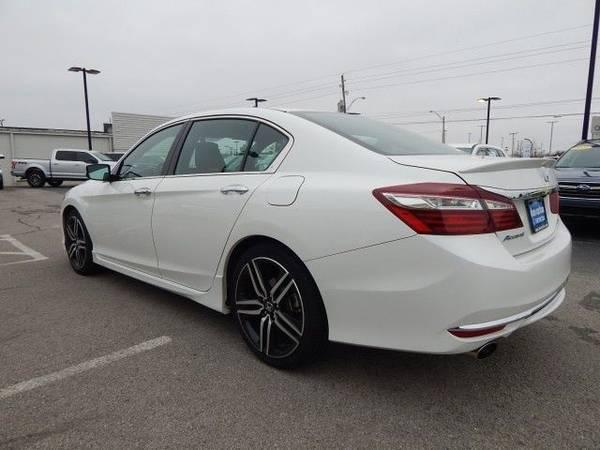Front_Fender: (60, 180, 97, 260)
Front_Left_Door: (91, 177, 162, 285)
Front_Left_Window: (103, 121, 187, 183)
Left_Taillight: (371, 183, 525, 235)
Rear_Bumper: (304, 213, 570, 351)
Rear_Fender: (229, 159, 464, 258)
Rear_Left_Door: (154, 173, 277, 313)
Rear_Left_Window: (165, 117, 293, 176)
Rear_Windshield: (289, 112, 471, 158)
Roof: (112, 107, 386, 177)
Tailgate: (387, 157, 558, 256)
Wheel: (228, 248, 316, 366), (61, 213, 86, 273)
